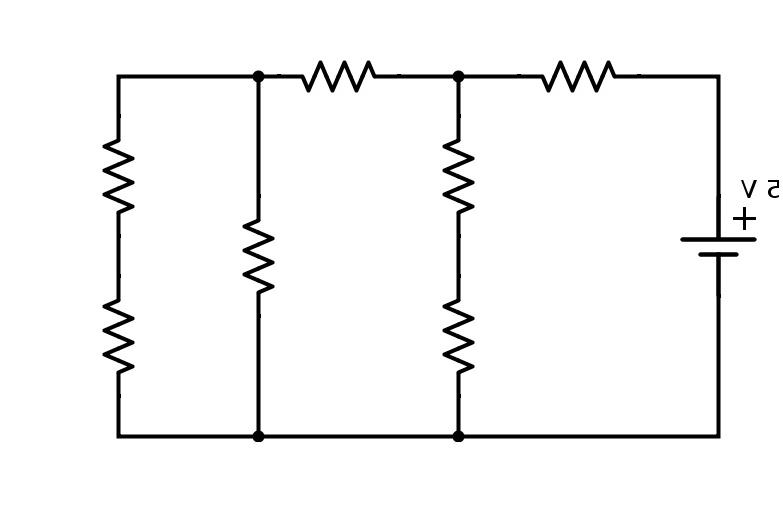resistor: (419, 270, 493, 407), (72, 120, 158, 235), (72, 270, 155, 383), (225, 197, 294, 317), (515, 50, 640, 101), (288, 41, 394, 99), (425, 127, 488, 216)
